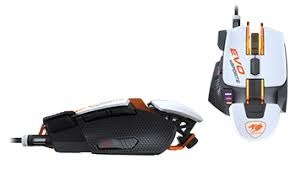mouse: (29, 99, 204, 160), (209, 24, 296, 146)
